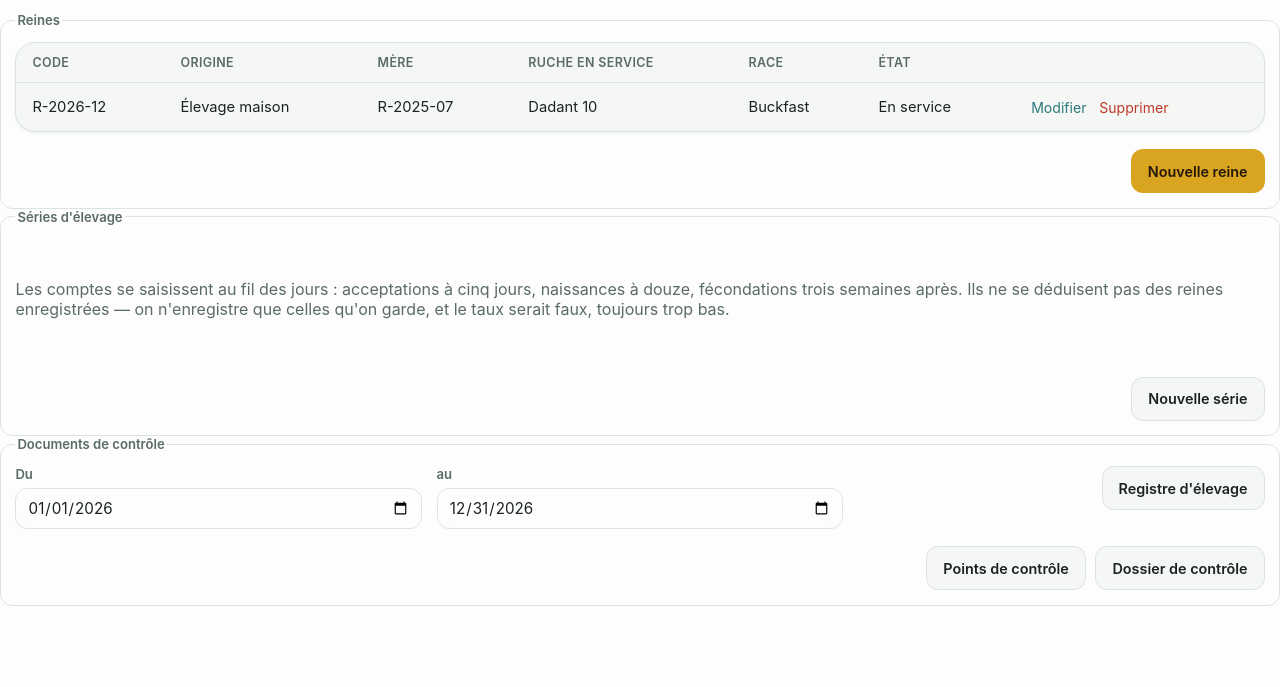
Test: élevage › ne demande le fournisseur que pour une reine achetée
This screenshot has width=1280, height=687.
Click the button "Nouvelle reine" at coordinates (1198, 171), box [1131,149,1265,193]
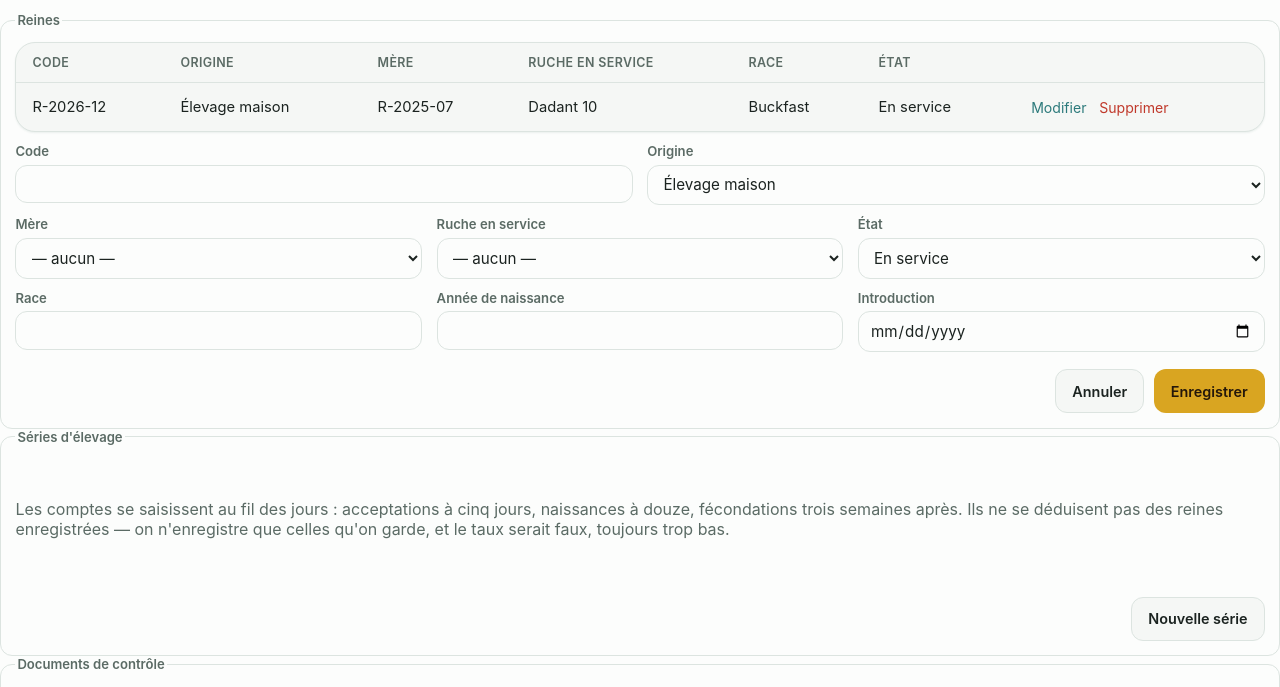
Expected: the field labelled "Fournisseur" is not shown
Select "Achat" in the dropdown labelled "Origine" at coordinates (956, 185), box [647,164,1265,205]
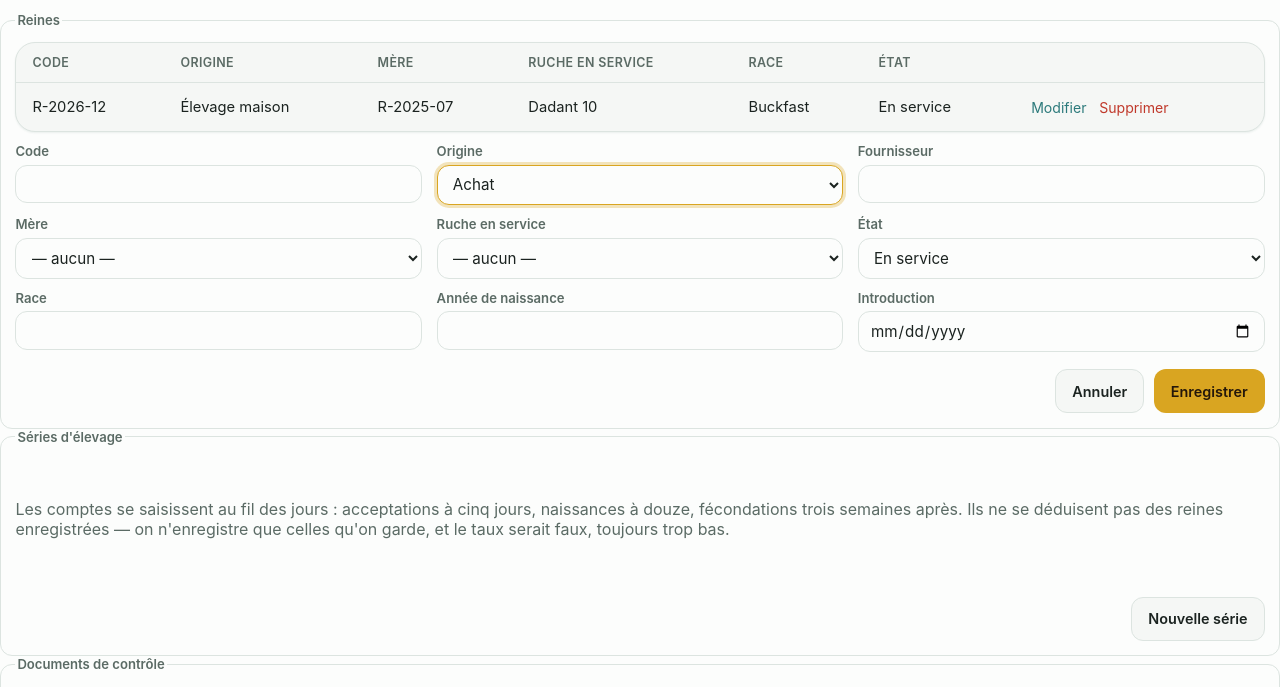
Expected: the field labelled "Fournisseur" is shown, [858,164,1265,203]
